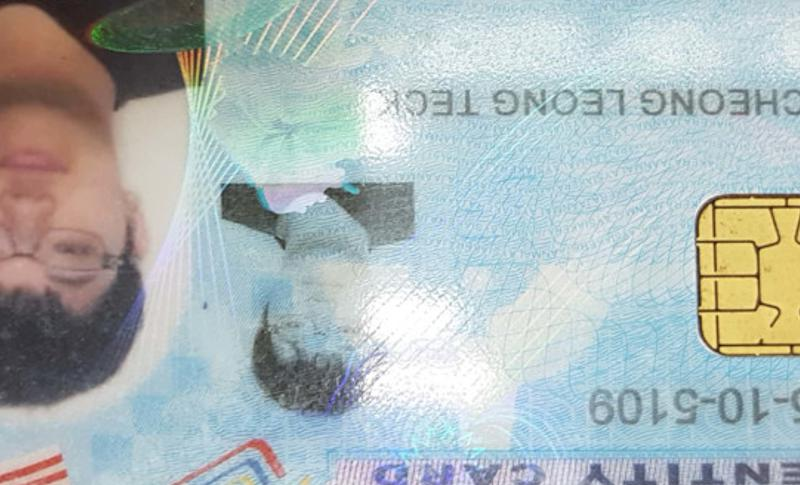hologramB: (207, 1, 378, 180)
